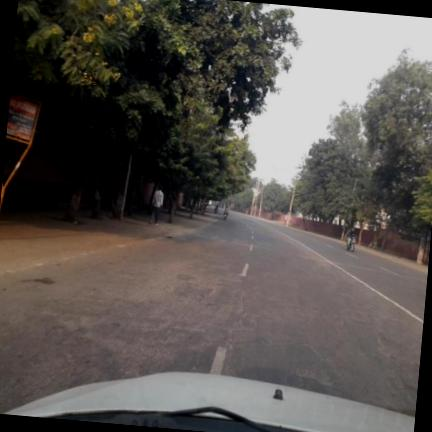Road: (0, 213, 427, 415)
